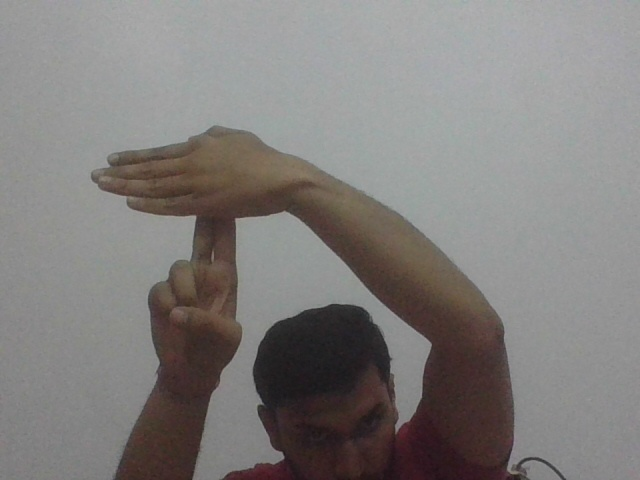N: (89, 123, 281, 257)
